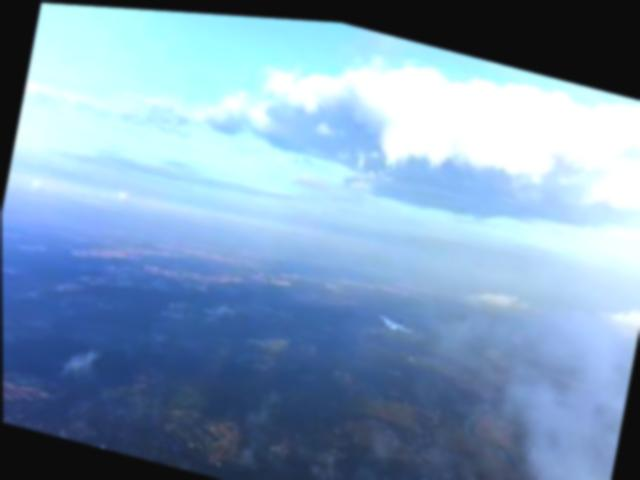uav: (374, 302, 416, 332)
